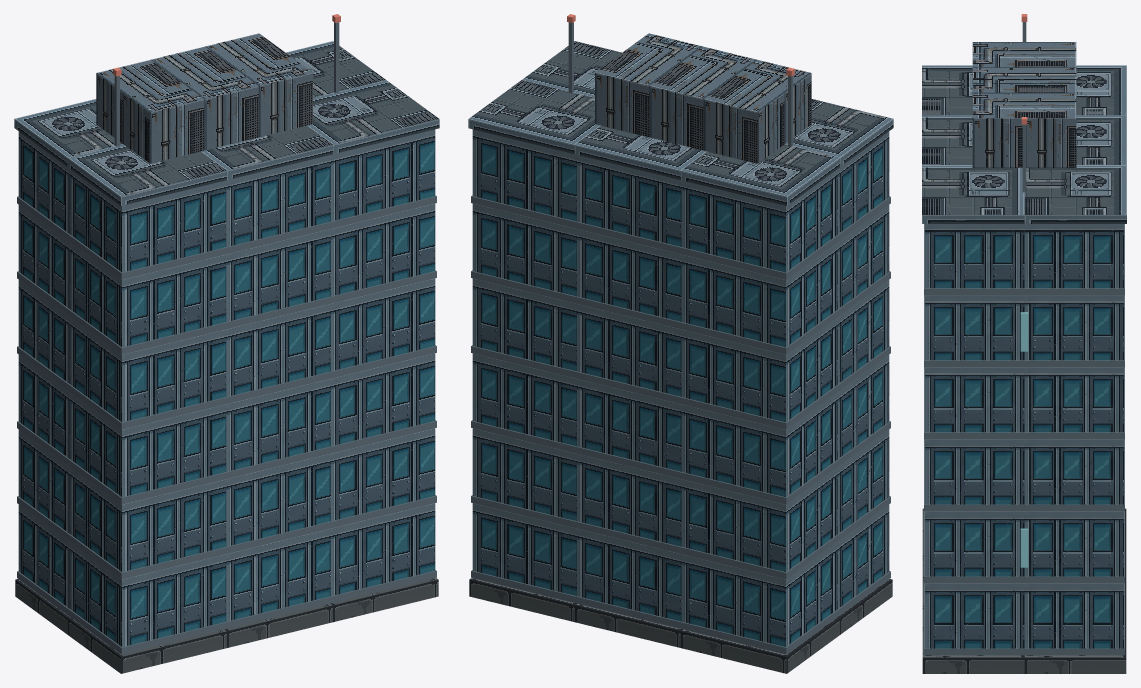
File: tower_industrial.glb
3 renders of one model, left to right at view 1: azimuth 30°, elevation 25°; view 2: azimuth 150°, elevation 25°; view 3: azimuth 270°, elevation 25°, orthographic. The views are drawn at different scales.
Parts seen in each view (by area): view 1: tower_industrial; view 2: tower_industrial; view 3: tower_industrial.
Part boxes in pixels (x1,y1,x2,y2): tower_industrial: (14,14,439,673); tower_industrial: (468,14,893,673); tower_industrial: (922,14,1126,673).
Bounding box in the file's own units: 7.12 × 11.83 × 4.12.
4 materials, 1 textured.
